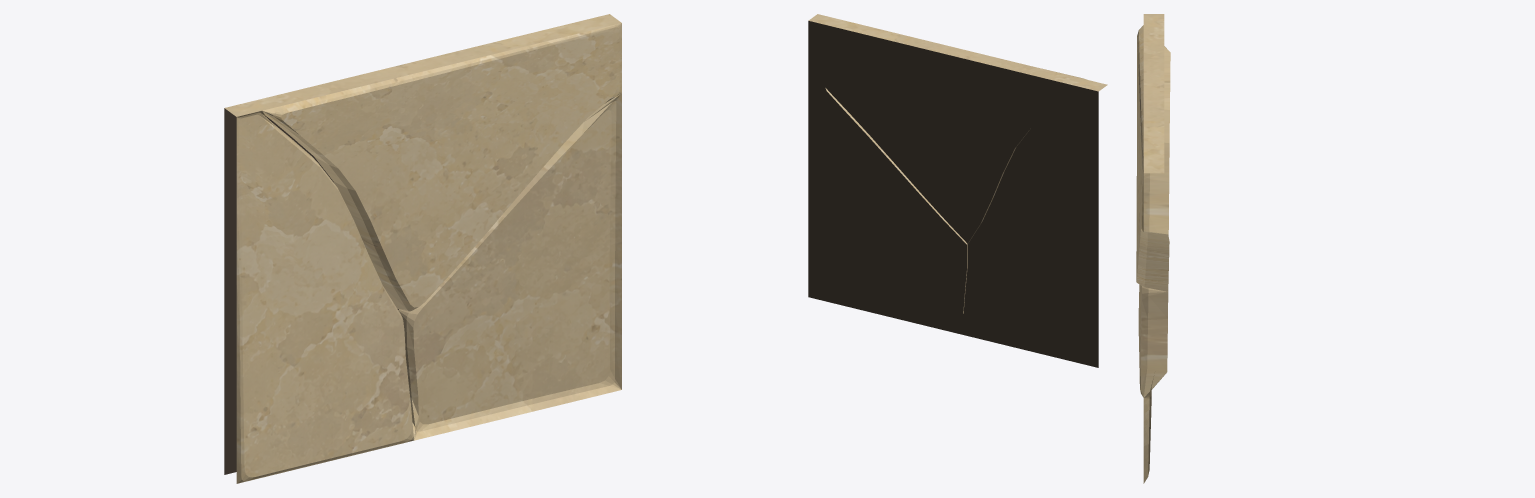
Rendered from ground_edge_05.glb.
The picture shows the model from 3 angles, left to right: view 1: azimuth 30°, elevation 25°; view 2: azimuth 150°, elevation 25°; view 3: azimuth 270°, elevation 25°; orthographic projection. The views are drawn at different scales.
Visible parts, largest first — view 1: GroundEdge05_Body; view 2: GroundEdge05_Body; view 3: GroundEdge05_Body.
Boxes of the visible parts, box(x1,y1,x2,y2) form: GroundEdge05_Body: box(224, 14, 621, 483); GroundEdge05_Body: box(808, 14, 1107, 367); GroundEdge05_Body: box(1136, 14, 1170, 483).
Bounding box in the file's own units: 1 × 0.91 × 1.02.
Materials: 5 (4 with a texture image).
